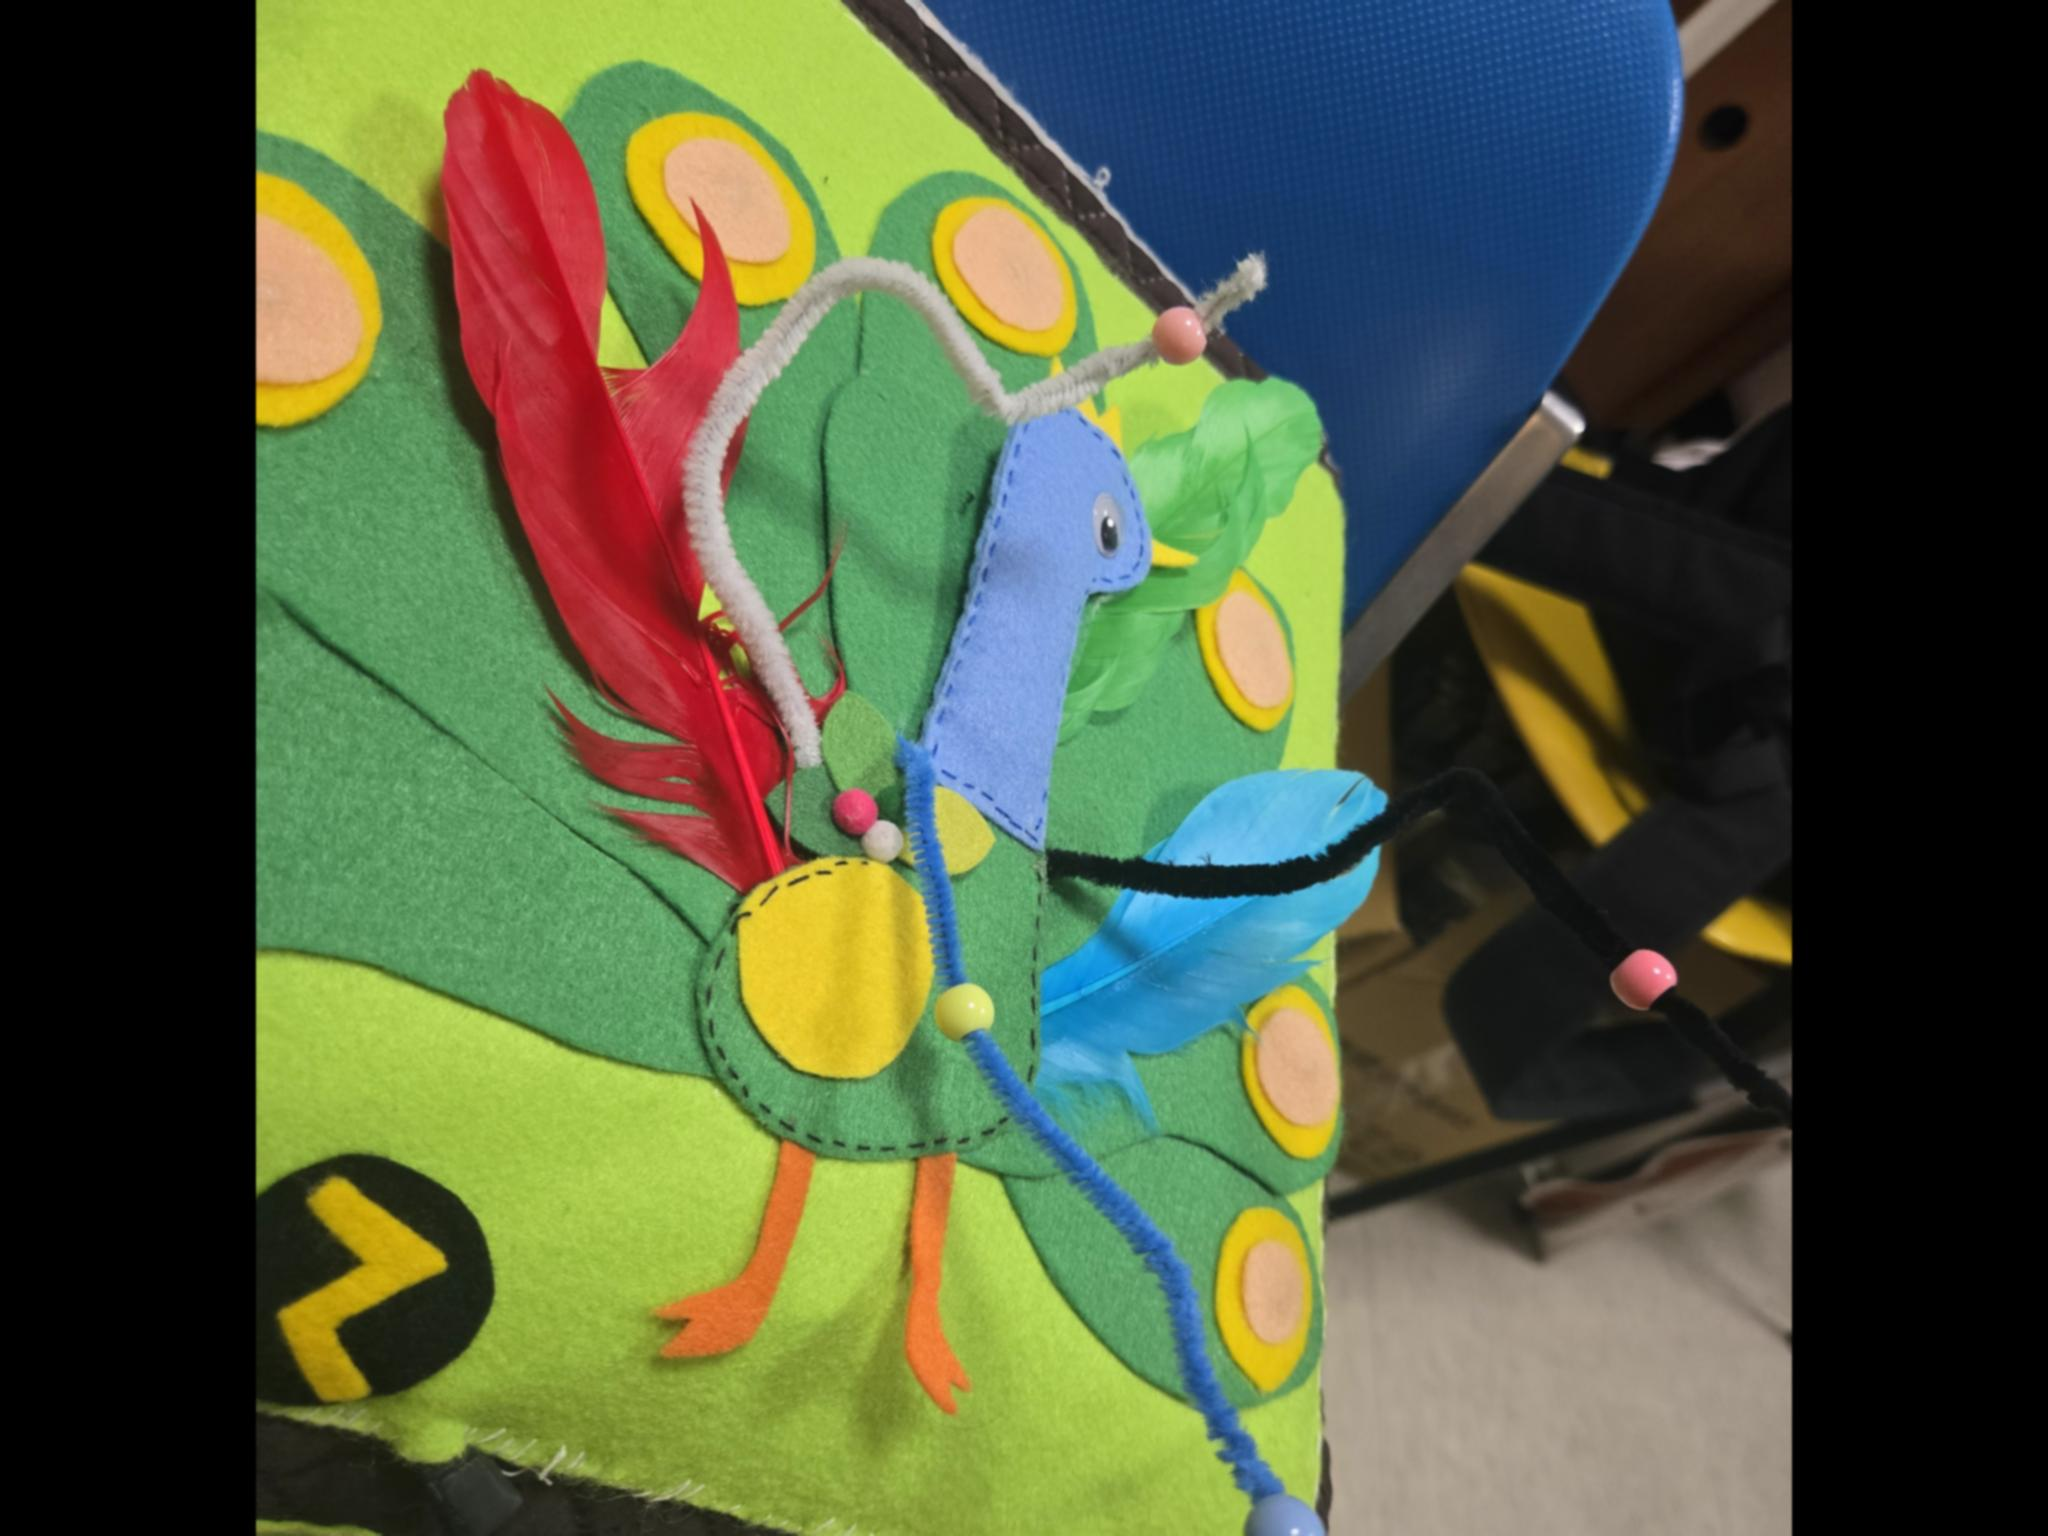bead: (1229, 1480, 1361, 1536), (930, 976, 1014, 1063), (1605, 939, 1687, 1021), (1143, 294, 1218, 368)
